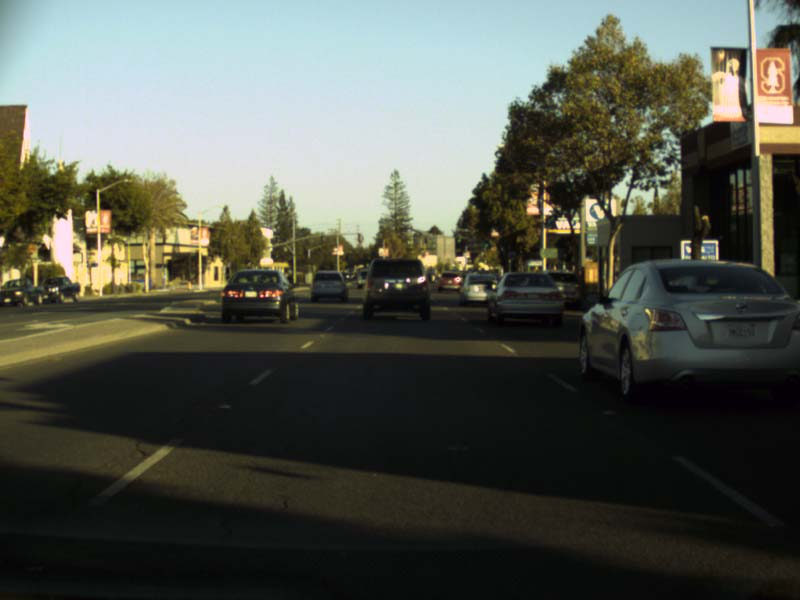Green: (484, 237, 488, 247)
